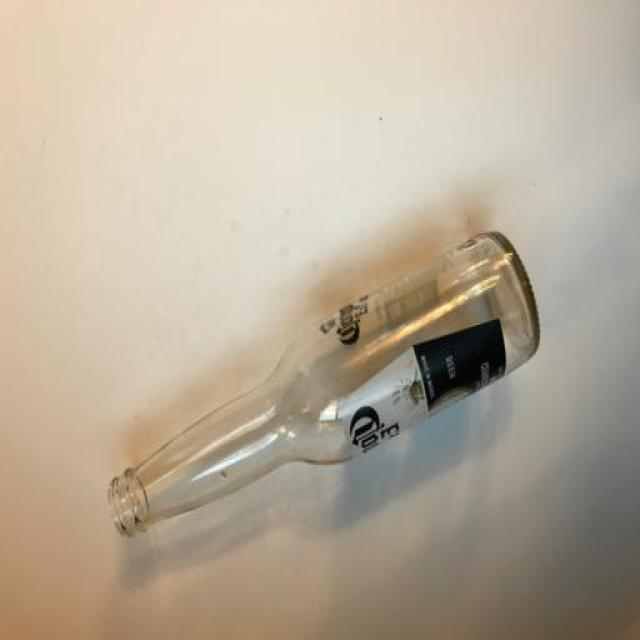glass: (106, 226, 541, 536)
